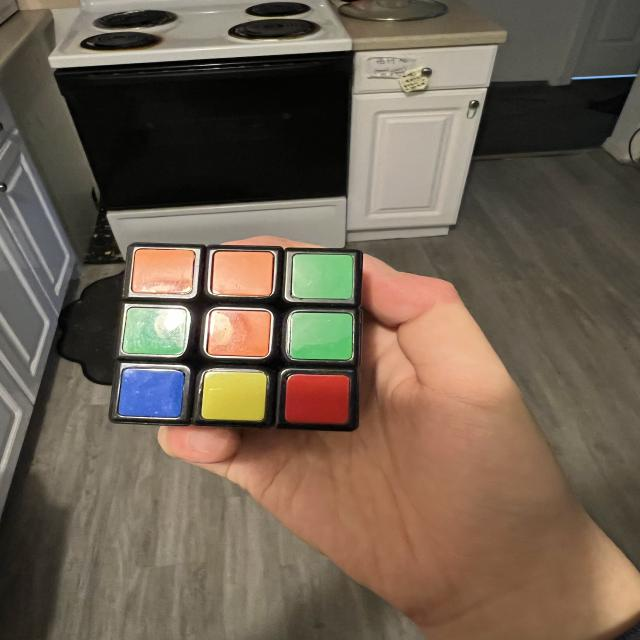blue: (117, 367, 185, 420)
center: (206, 308, 272, 359)
green: (121, 305, 191, 357), (285, 311, 355, 362), (292, 253, 354, 300)
orange: (203, 308, 273, 359), (131, 247, 195, 296), (212, 250, 274, 297)
red: (283, 373, 351, 426)
yellow: (198, 367, 269, 424)
